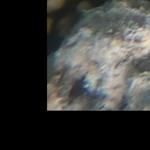dead: (43, 1, 148, 108)
